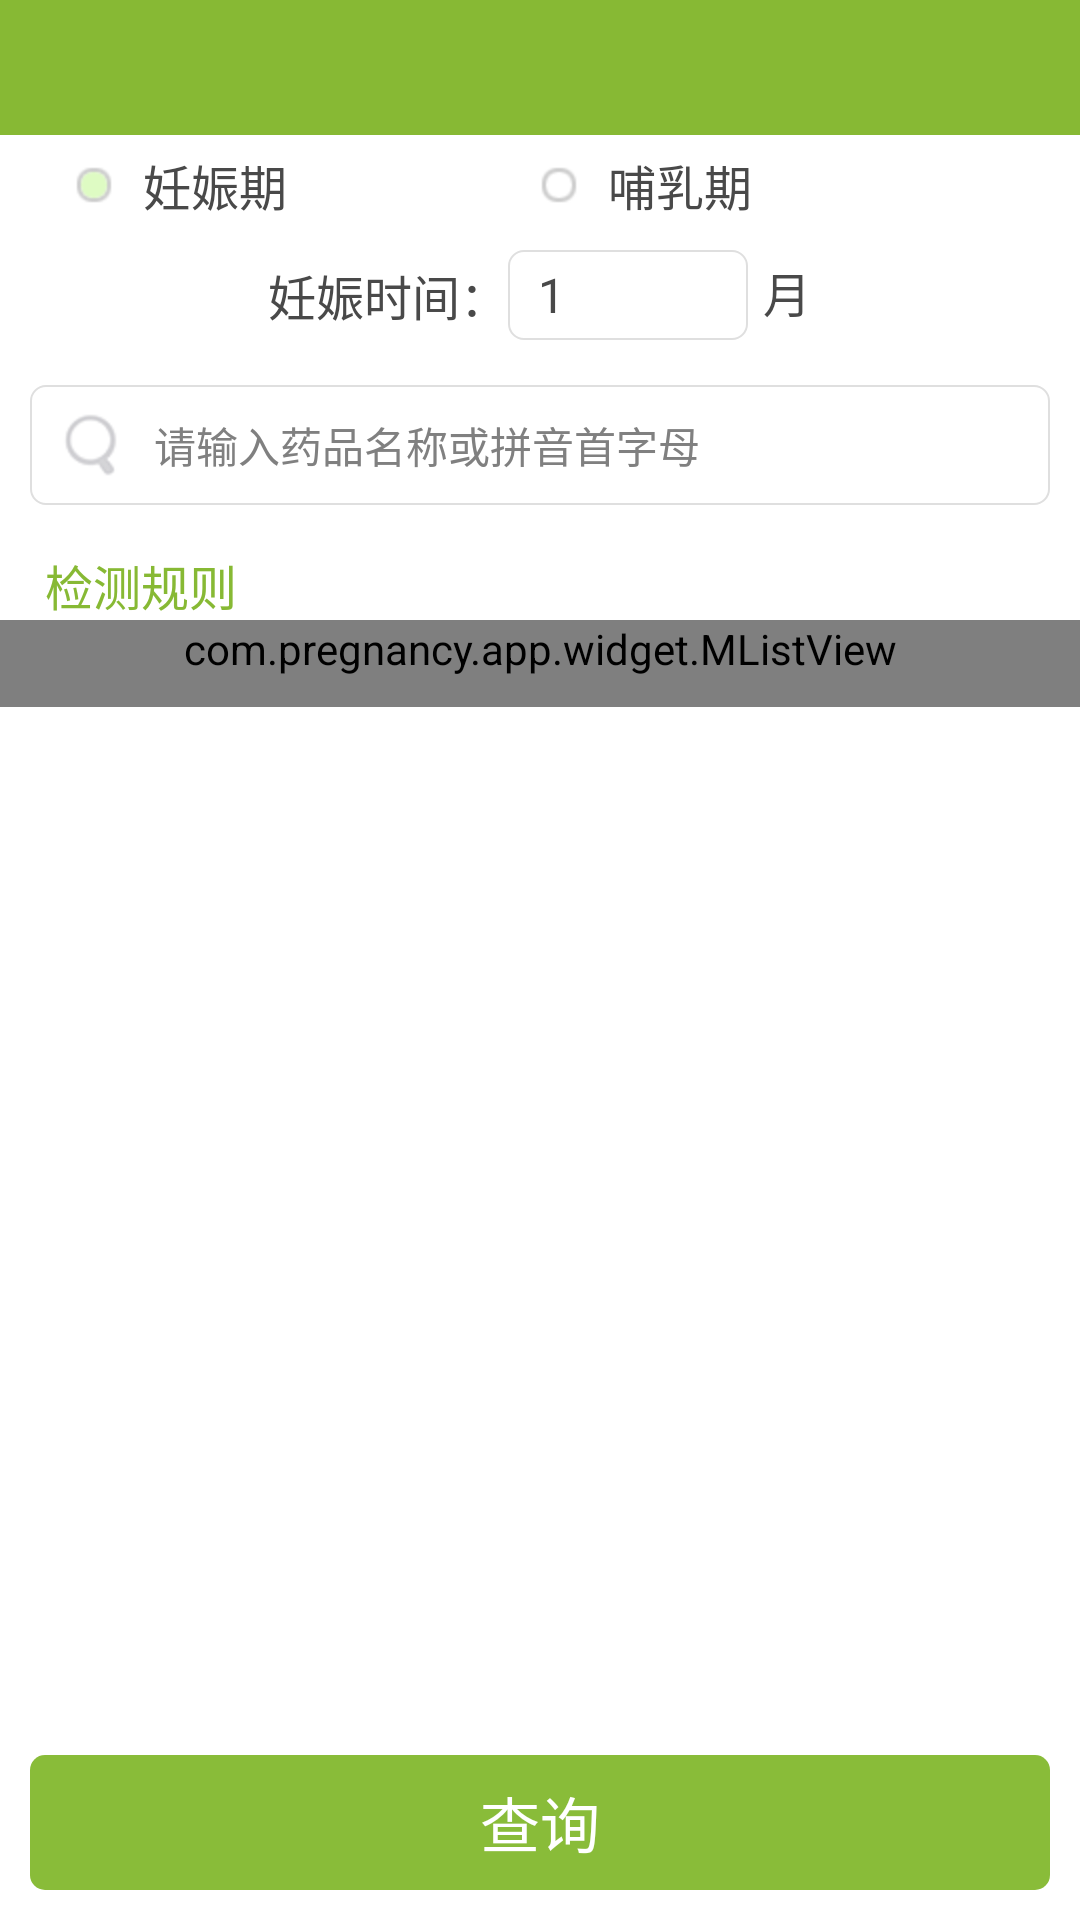

Where to tap for icons on this 1080w x 1920h app screen, as (x=x, y=y):
search: (x=91, y=444)
